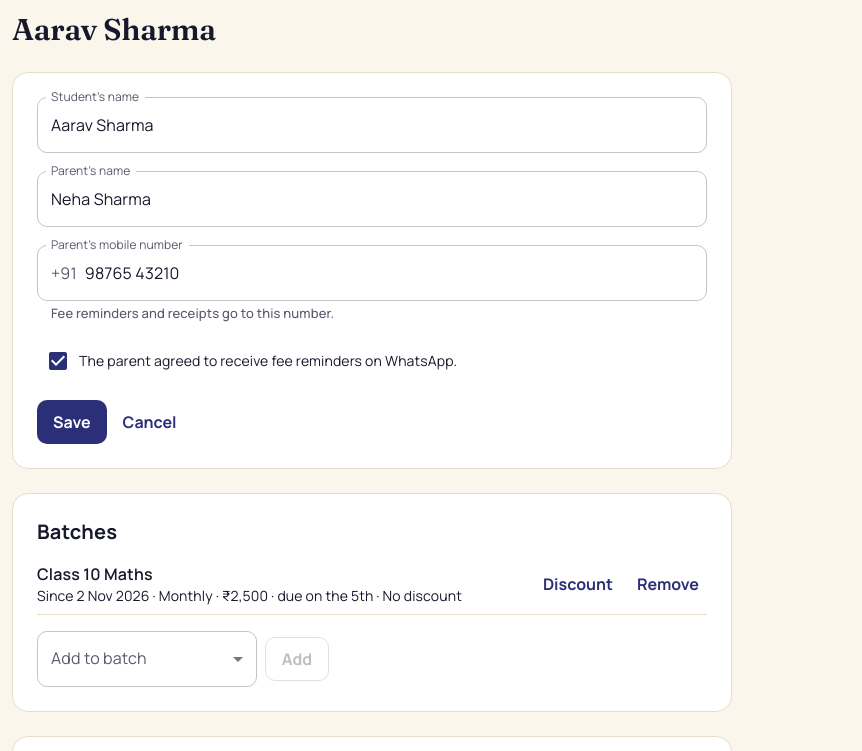
StudentDetail › adds the student to another batch
The width and height of the screenshot is (862, 751).
Expected: the heading "Aarav Sharma" is shown, [12,12,216,48]
Step 1. Click the dropdown named "Add to batch" → (147, 659), box [37,631,257,687]
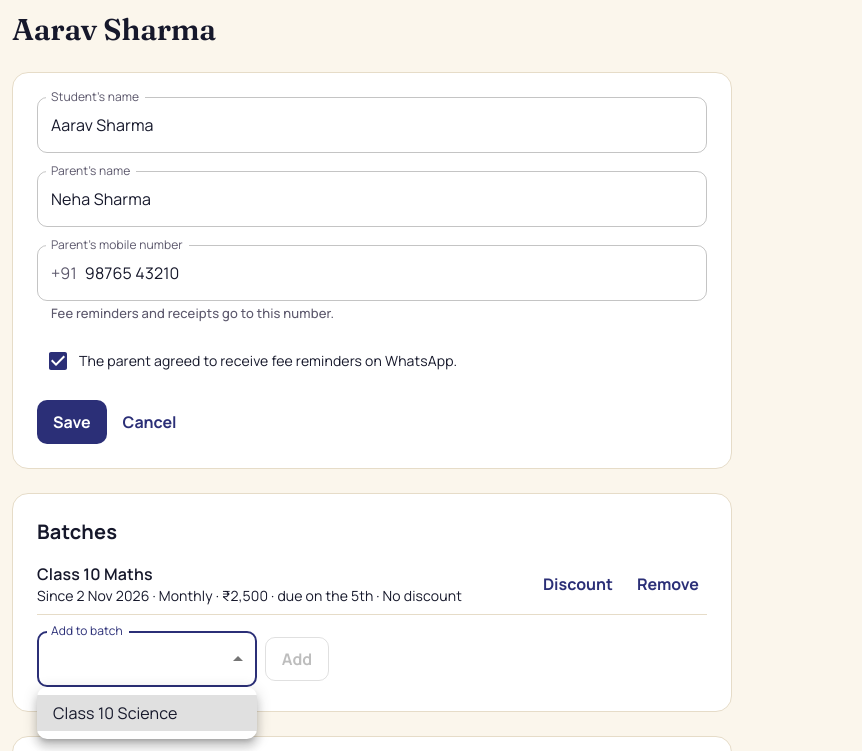
Expected: the options read "Class 10 Science", in this order
Step 2. Click the option "Class 10 Science" → (147, 713), box [37,695,257,731]
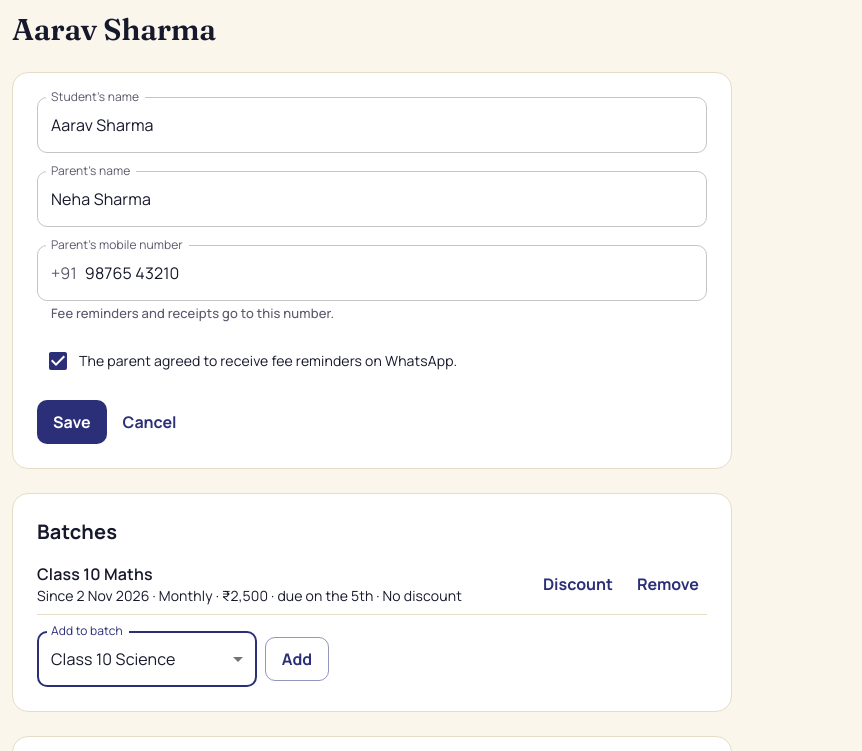
Step 3. Click the button "Add" → (297, 659), box [265,637,329,681]
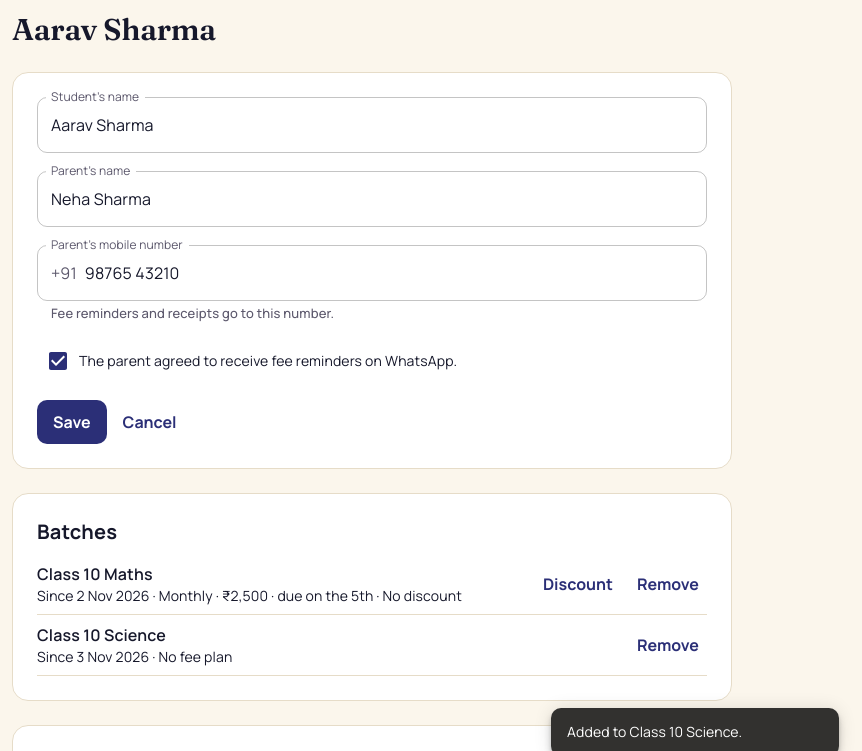
Expected: the text "Added to Class 10 Science." is shown, [567,722,742,741]
Expected: the number of list items is 2, [37,554,707,615]; [37,615,707,676]
